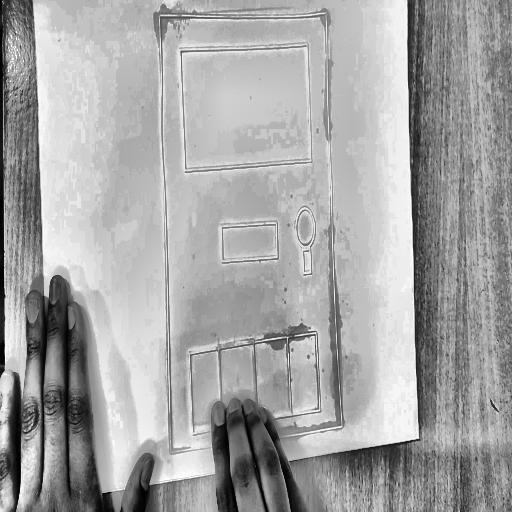bottom_left: (52, 486, 62, 502)
bottom_right: (414, 429, 424, 447)
door: (155, 4, 348, 463)
